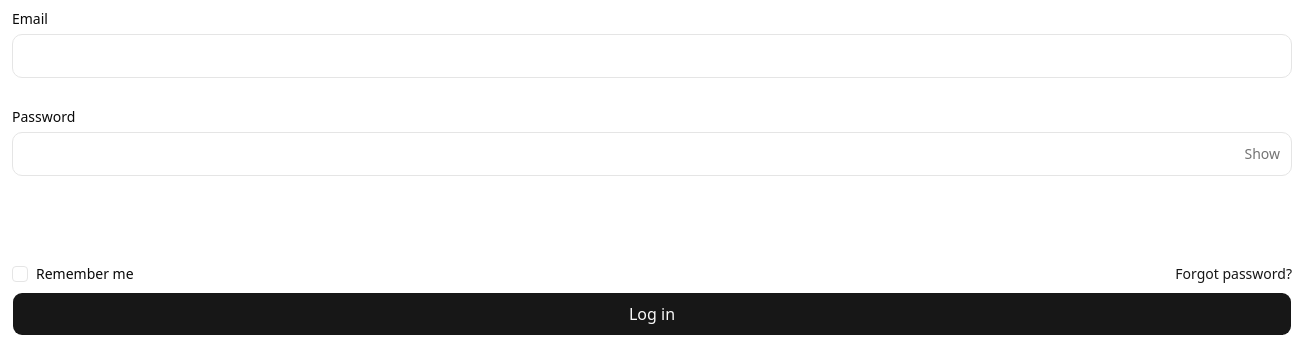
Test case: LoginSection › shows an account not verified message
Type "unverified@example.com" into the field labelled "Email" at (652, 56), box top-left (12, 34), bottom-right (1292, 78)
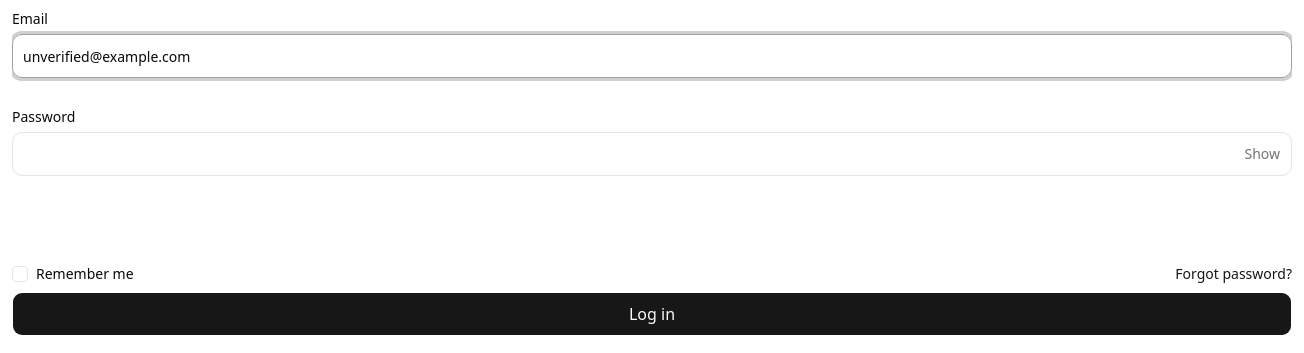
Type "password" into the password field labelled "Password" at (652, 154), box top-left (12, 132), bottom-right (1292, 176)
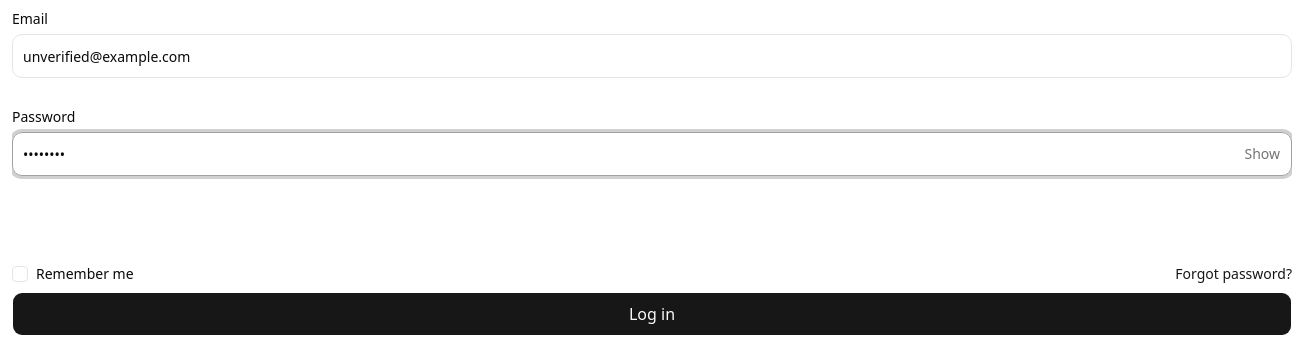
Click the button "Log in" at (652, 314), box top-left (12, 292), bottom-right (1292, 336)
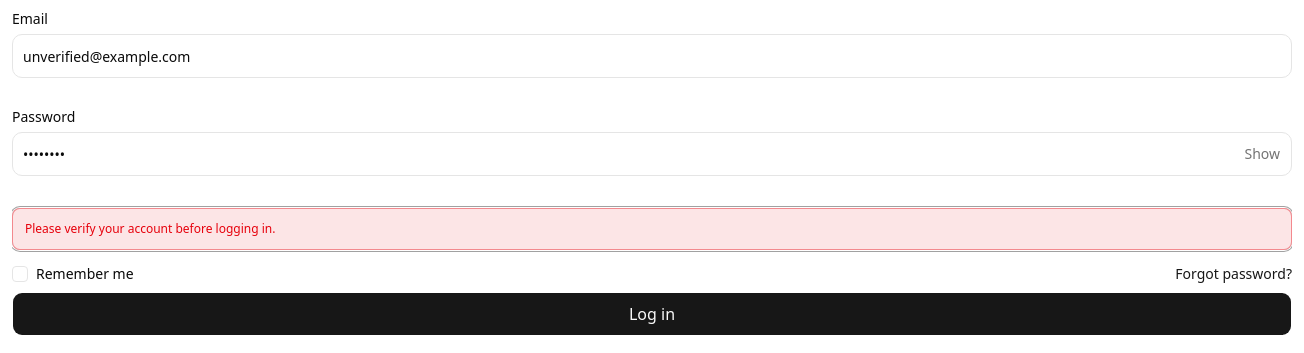
Result: the message reads "Please verify your account before logging in." at top-left (25, 220), bottom-right (276, 237)
